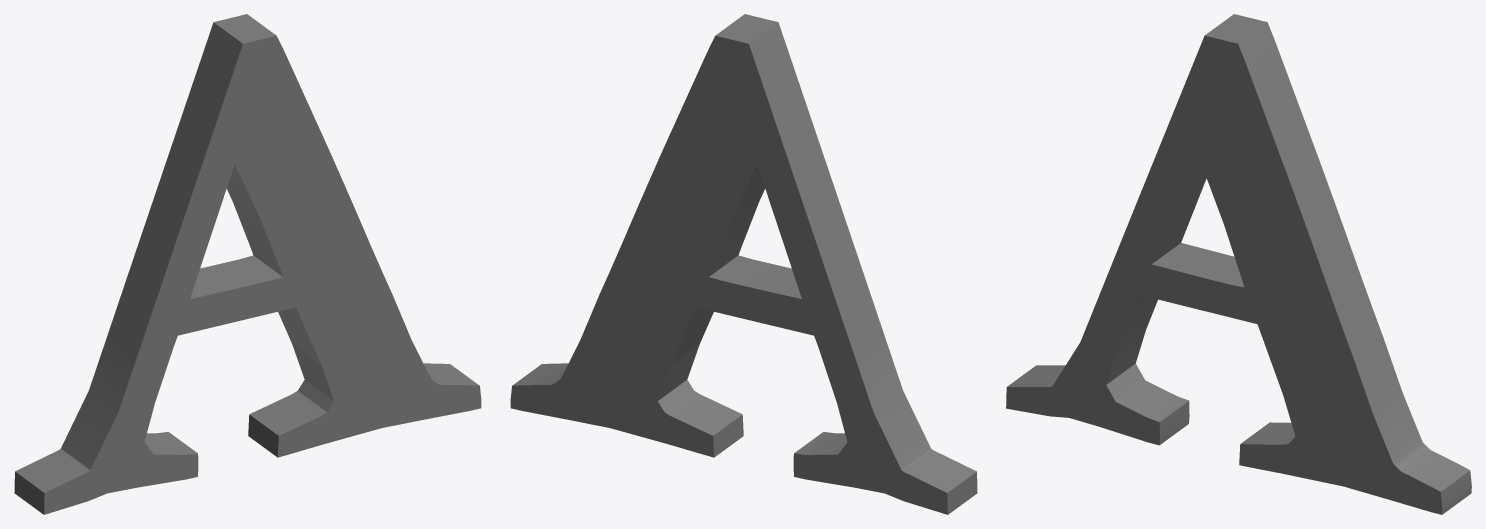
File: fa-font.obj
The picture shows the model from 3 angles, left to right: view 1: azimuth 30°, elevation 25°; view 2: azimuth 150°, elevation 25°; view 3: azimuth 330°, elevation 25°; orthographic projection.
Bounding box in the file's own units: 0.9826 × 0.907 × 0.1152.
1 material, 1 textured.
